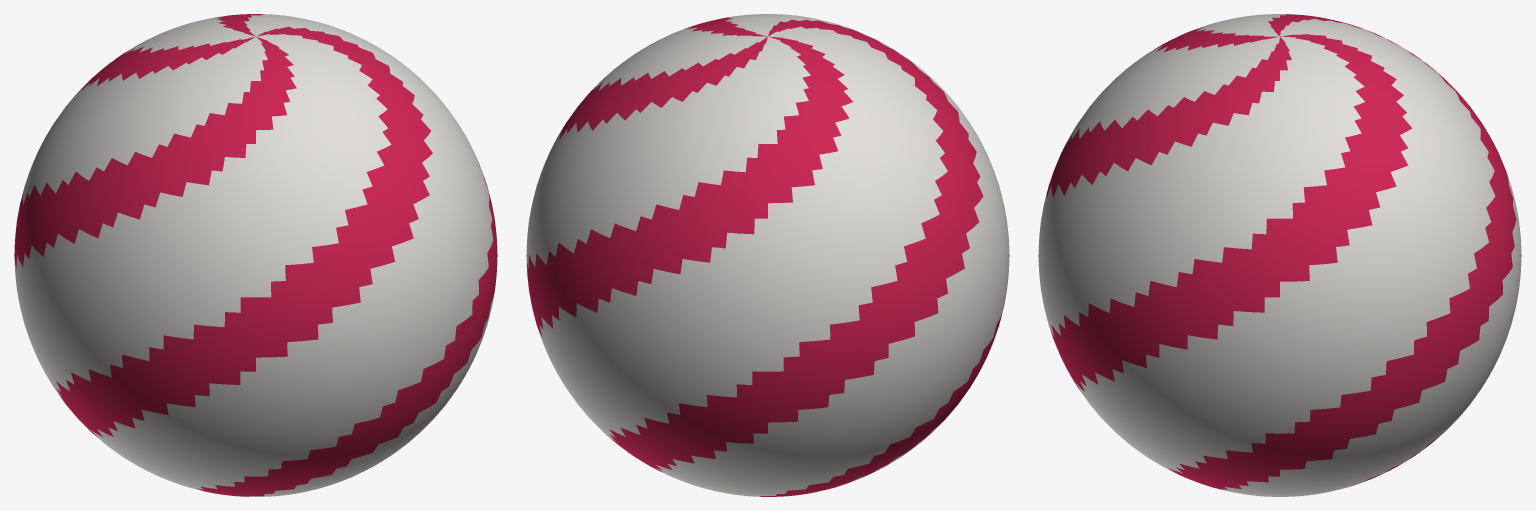
File: ball.glb
3 renders of one model, left to right at view 1: azimuth 30°, elevation 25°; view 2: azimuth 150°, elevation 25°; view 3: azimuth 270°, elevation 25°, orthographic.
Visible parts, largest first — view 1: ball; view 2: ball; view 3: ball.
Boxes of the visible parts, x1,y1,x2,y2 form: ball: [14, 14, 497, 496]; ball: [526, 14, 1009, 496]; ball: [1038, 14, 1521, 496].
Bounding box in the file's own units: 1 × 1 × 1.
